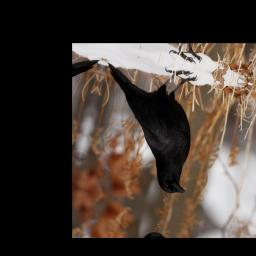Crow: (81, 48, 216, 201)
